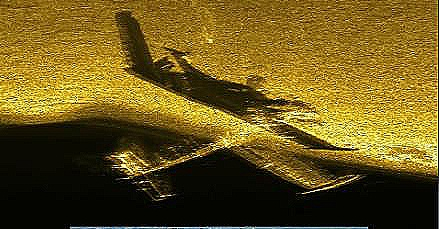aircraft: (107, 77, 364, 204)
